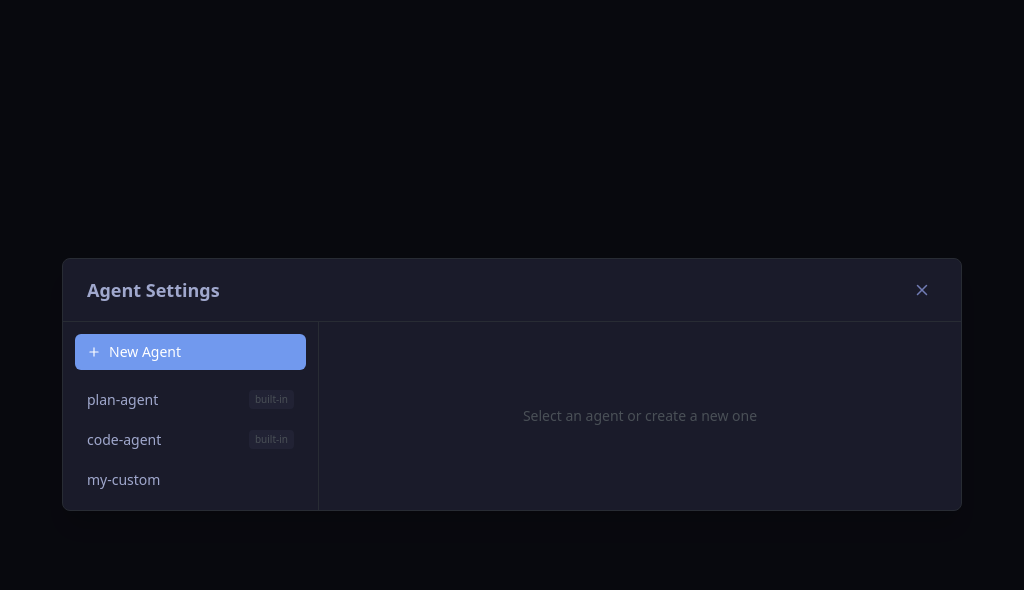
Test case: AgentSettingsDialog › should enable editing for custom agents
Check: the text "my-custom" is shown, box [87,470,160,490]
Click the button "my-custom": (190, 480) [75,462,306,498]
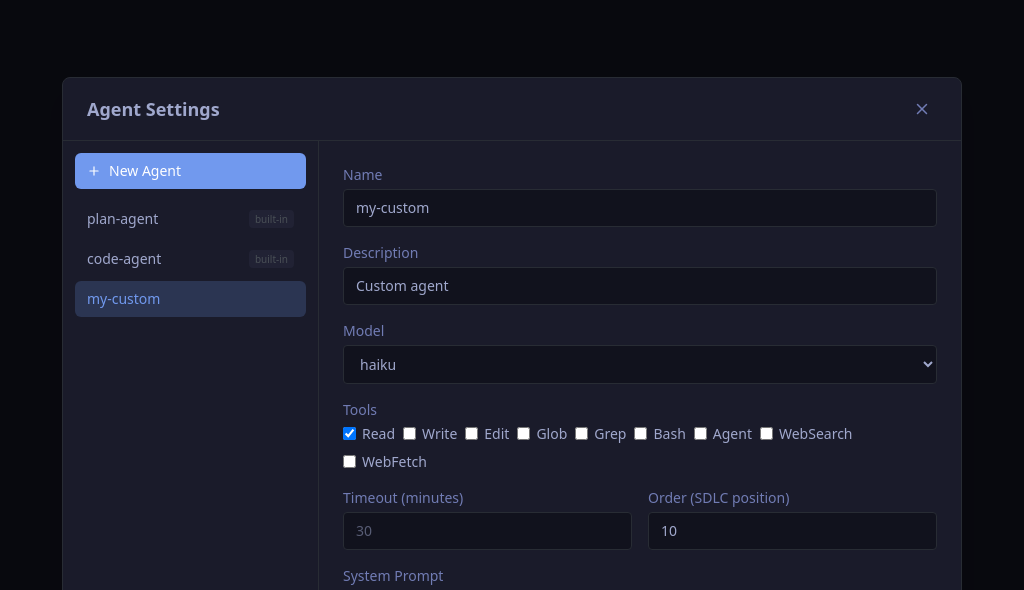
Check: the field with test id "agent-name-input" is enabled, box [343,189,937,227]
